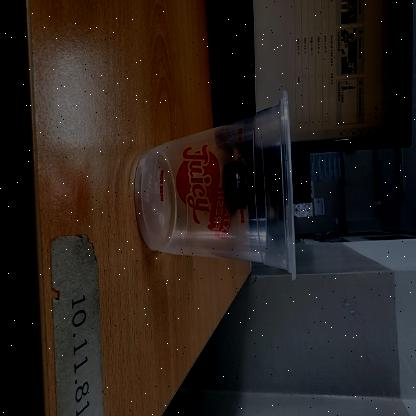Others: (136, 92, 294, 282)
